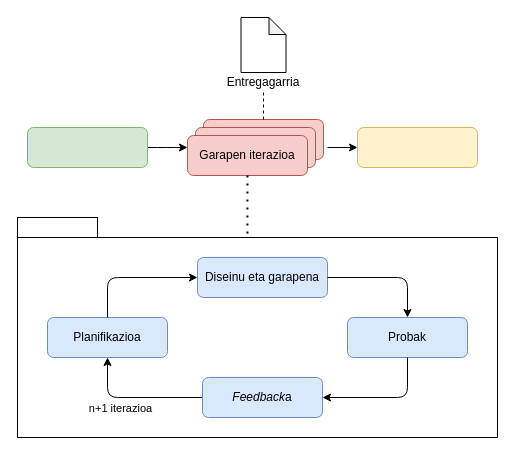
This 515x455 diagram has some shape labels left out. The box of each missing label's shape, as (x1, y1, x2, y2) in pixels:
Hasieraketa: (26, 126, 148, 168)
Itxiera: (356, 126, 478, 168)
n. Iterazioa: (16, 216, 98, 238)
